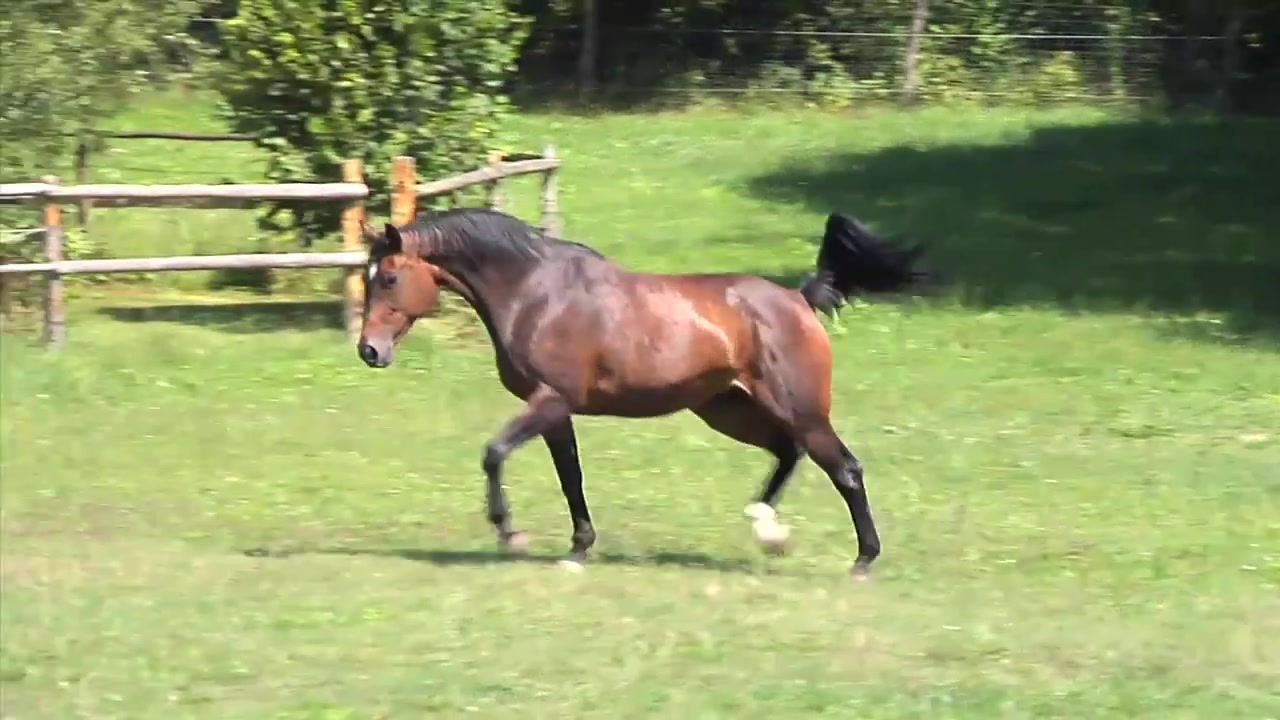horse: (357, 213, 926, 585)
